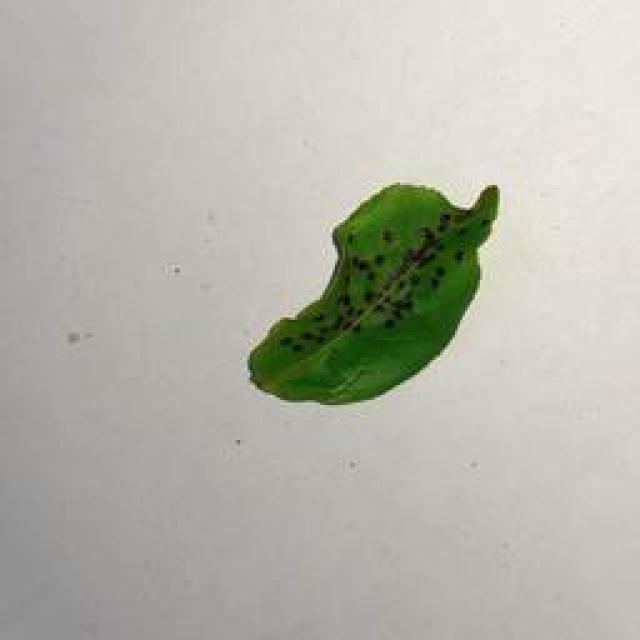Helopeltis: (239, 158, 515, 423)
